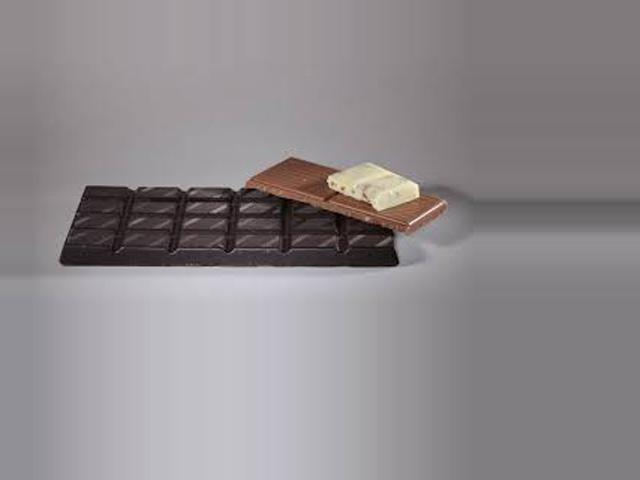chocolate: (57, 172, 418, 277)
